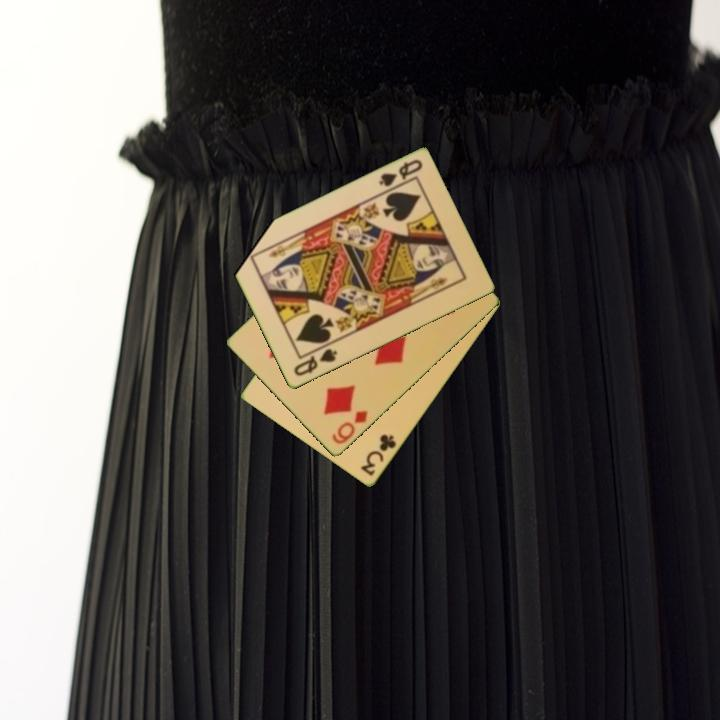3c: (357, 431, 399, 479)
6d: (328, 407, 371, 447)
Qs: (290, 345, 340, 379), (375, 156, 425, 190)
